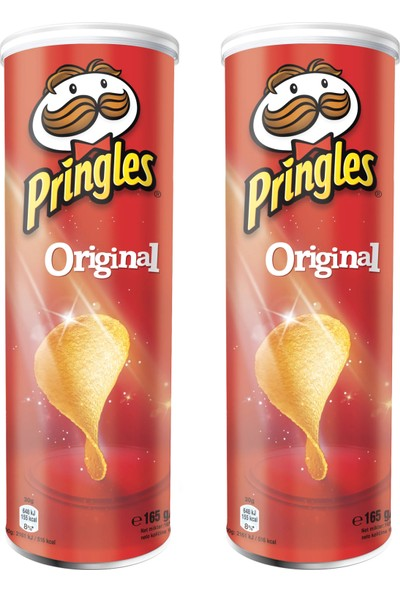pringle: (0, 22, 186, 576), (216, 27, 400, 576)
